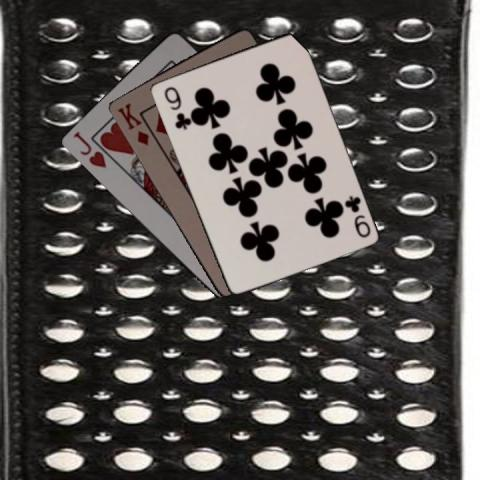9c: (341, 192, 372, 239), (161, 84, 189, 132)
Jh: (70, 128, 108, 170)
Kd: (113, 100, 150, 147)
